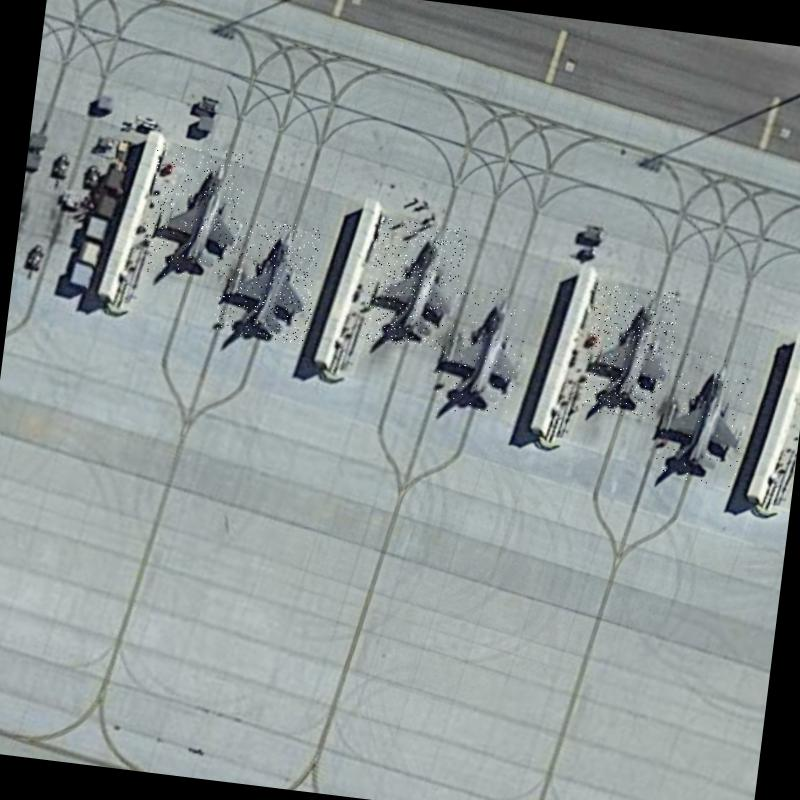A5: (141, 142, 248, 282), (650, 350, 756, 489), (361, 217, 468, 351), (212, 216, 322, 346), (430, 281, 530, 418), (581, 283, 680, 420)
